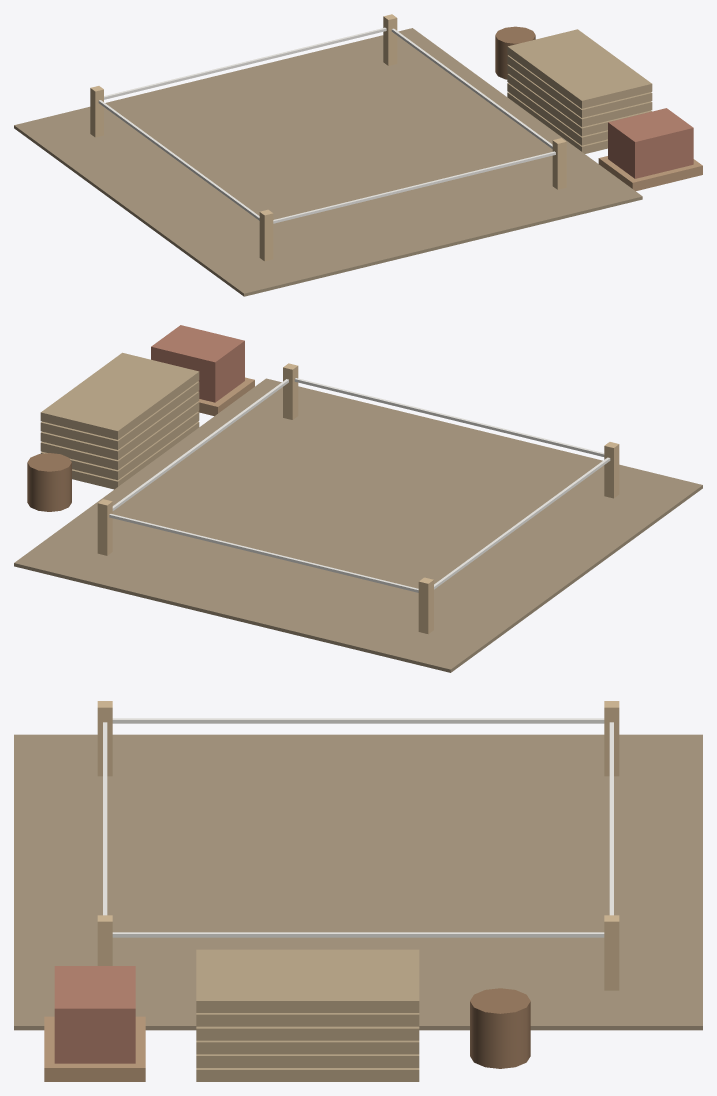
The model's file is rabbit_hutch_site_0.glb.
3 renders of one model, top to bottom at view 1: azimuth 30°, elevation 25°; view 2: azimuth 150°, elevation 25°; view 3: azimuth 270°, elevation 25°, orthographic. The views are drawn at different scales.
Parts seen in each view (by area): view 1: body; view 2: body; view 3: body.
Part boxes in pixels (x1,y1,x2,y2): body: (14,14,702,296); body: (14,325,702,672); body: (14,701,702,1081).
Size of the model in its own units: 1.6 by 0.176 by 1.36.
